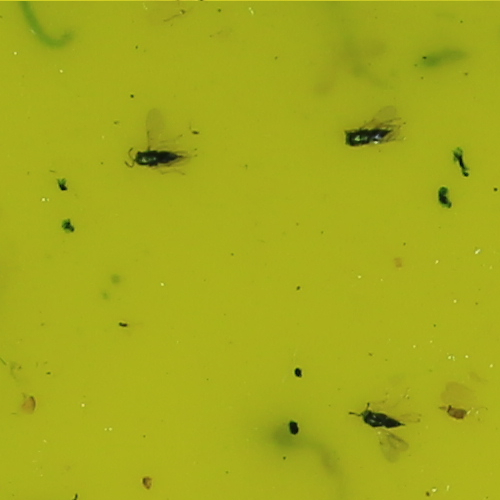wasp: (356, 402, 405, 430), (133, 144, 182, 170), (342, 125, 392, 145)
